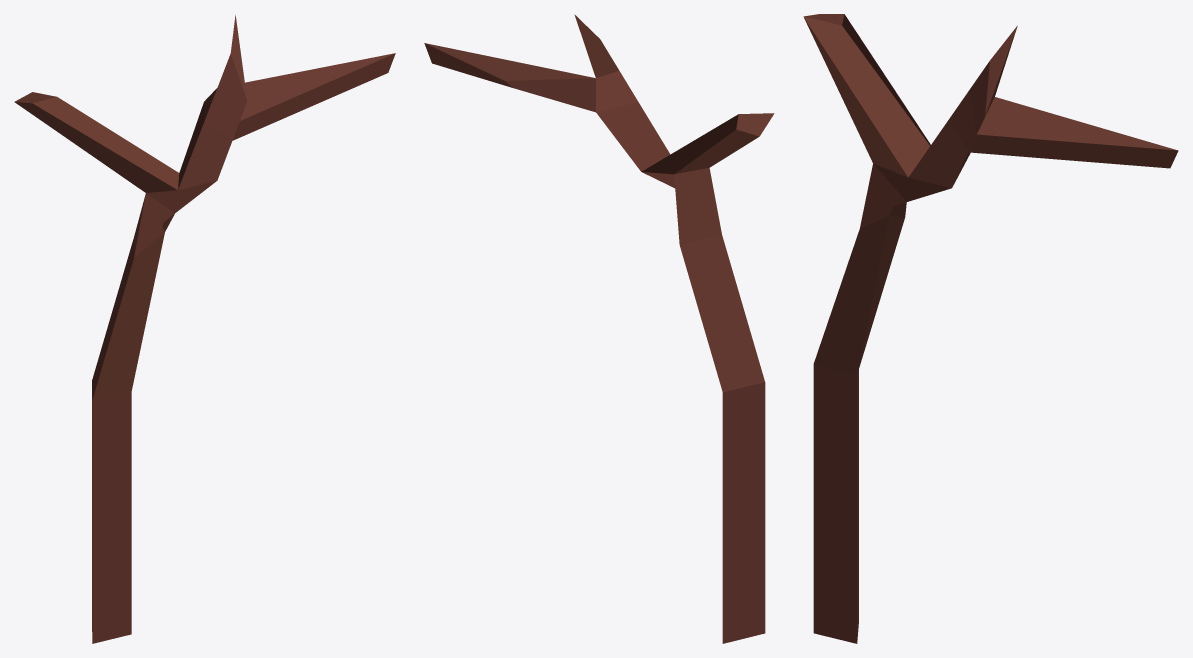
Rendered from autumn_trees.fbx.
The picture shows the model from 3 angles, left to right: view 1: azimuth 30°, elevation 25°; view 2: azimuth 150°, elevation 25°; view 3: azimuth 330°, elevation 25°; orthographic projection. The views are drawn at different scales.
Visible parts, largest first — view 1: Cylinder; view 2: Cylinder; view 3: Cylinder.
Part boxes in pixels (x1,y1,x2,y2): Cylinder: (14, 15, 395, 643); Cylinder: (424, 14, 774, 643); Cylinder: (803, 14, 1178, 643).
Size of the model in its own units: 196 by 305 by 44.2.
